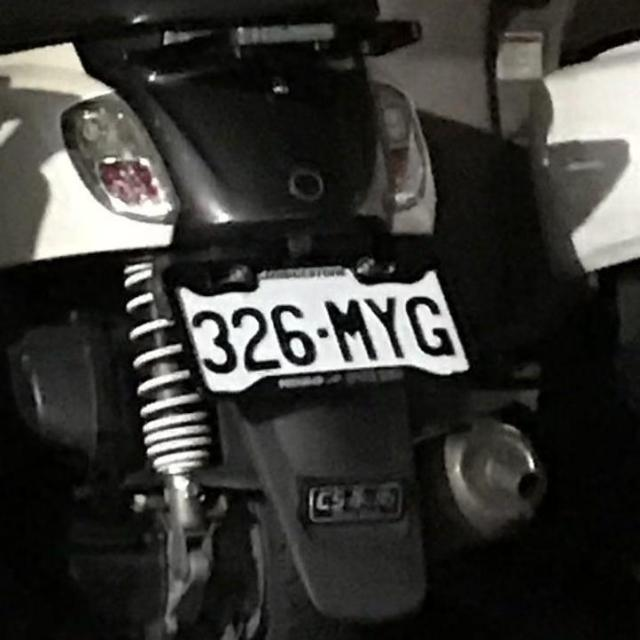W: (166, 248, 486, 412)
